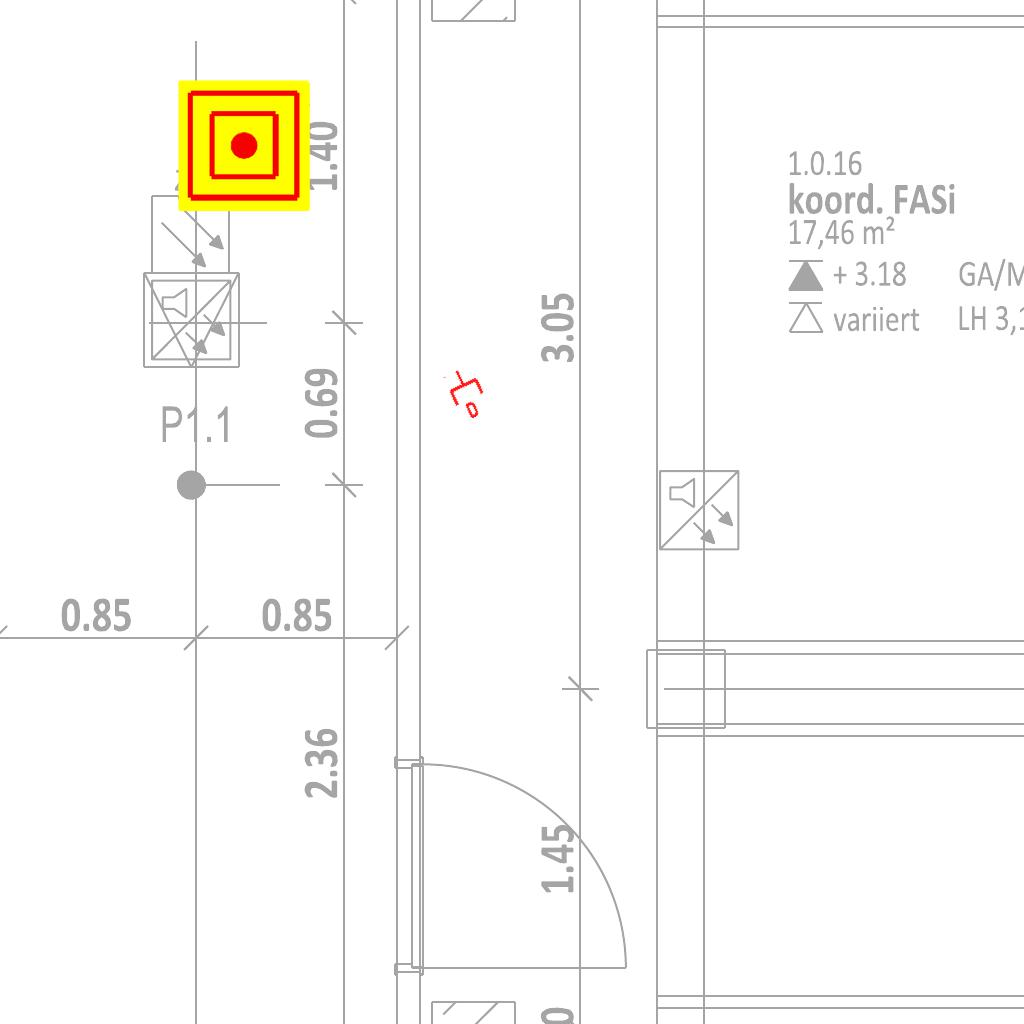Datenanschluss_einfach: (441, 363, 493, 423)
NAM-Nichtautomatischer_Melder: (178, 80, 310, 212)
